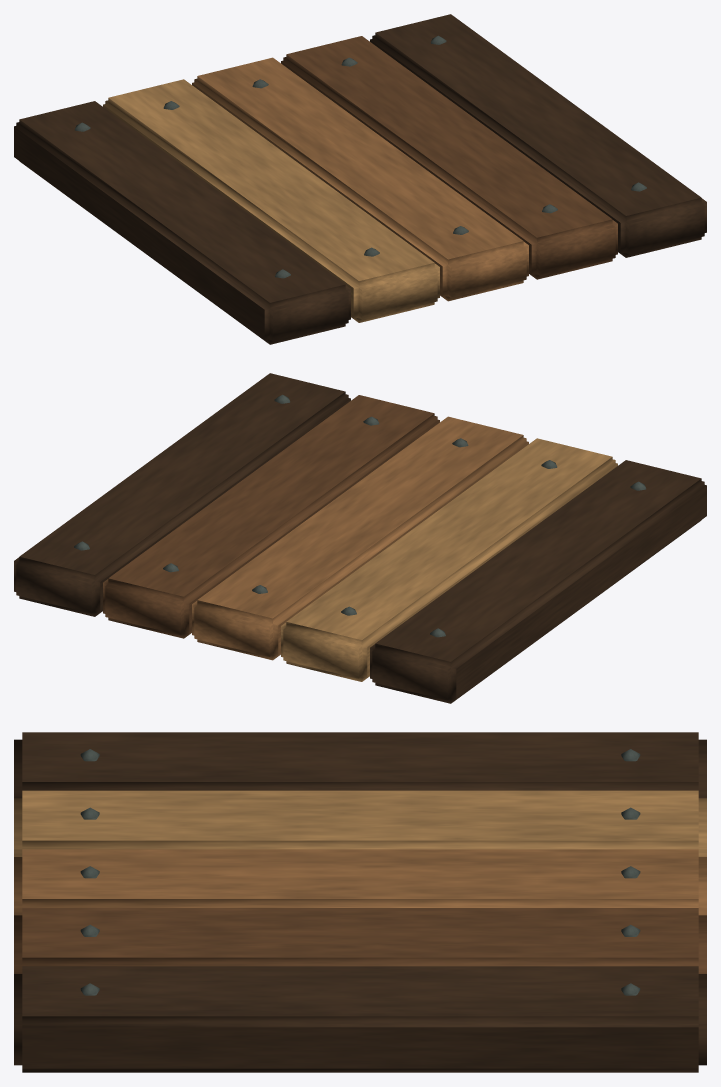
The model's file is plank-floor-3.fbx.
3 views of the same model, one above another, from view 1: azimuth 30°, elevation 25°; view 2: azimuth 150°, elevation 25°; view 3: azimuth 270°, elevation 25° (orthographic). The views are drawn at different scales.
Parts seen in each view (by area): view 1: plank-floor-3__Geometry; view 2: plank-floor-3__Geometry; view 3: plank-floor-3__Geometry.
Part boxes in pixels (box(x1,y1,x2,y2)): plank-floor-3__Geometry: box(14, 14, 706, 344); plank-floor-3__Geometry: box(14, 373, 706, 703); plank-floor-3__Geometry: box(14, 732, 706, 1072).
Bounding box in the file's own units: 0.994 × 0.103 × 1.
Materials: 1 (1 with a texture image).
